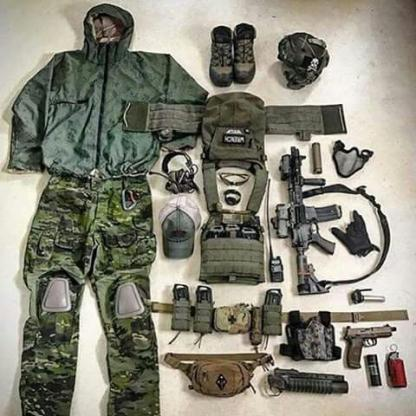Grenade: (386, 344, 410, 390)
Gun: (269, 143, 344, 295)
Pistol: (342, 324, 398, 370)
